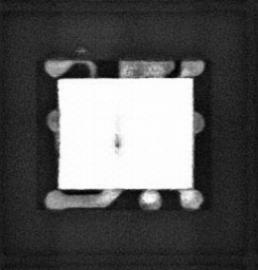DIE_INK: (112, 131, 123, 150), (75, 45, 87, 54)
